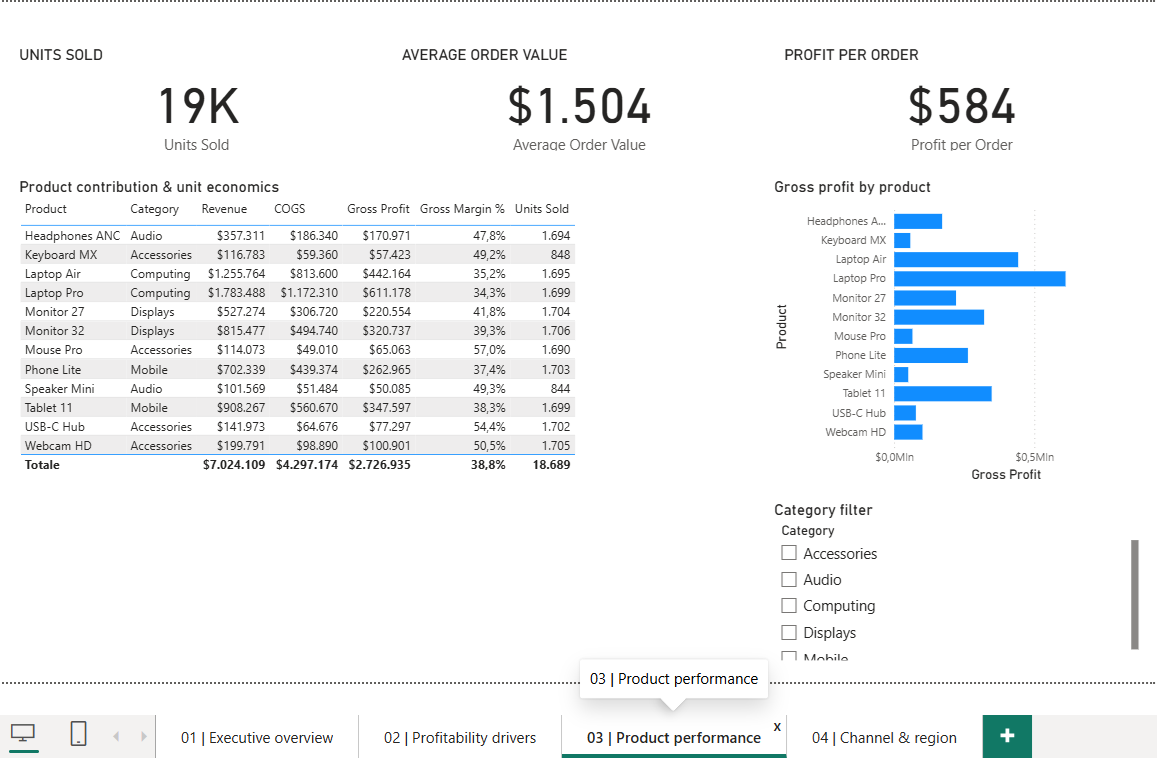

The dashboard page shown, as its layout file describes it:
{"tool":"powerbi","page":{"name":"03 | Product performance","canvas":[1280,720],"ordinal":2},"visuals":[{"type":"card","title":"UNITS SOLD","fields":{"Values":["Sales.Units Sold"]},"box":[20,20,400,120],"z":0},{"type":"card","title":"AVERAGE ORDER VALUE","fields":{"Values":["Sales.Average Order Value"]},"box":[440,20,400,120],"z":0},{"type":"card","title":"PROFIT PER ORDER","fields":{"Values":["Sales.Profit per Order"]},"box":[860,20,400,120],"z":0},{"type":"tableEx","title":"Product contribution & unit economics","fields":{"Values":["Products.Product","Products.Category","Sales.Revenue","Sales.COGS","Sales.Gross Profit","Sales.Gross Margin %","Sales.Units Sold"]},"box":[20,165,810,535],"z":0},{"type":"clusteredBarChart","title":"Gross profit by product","fields":{"Category":["Products.Product"],"Y":["Sales.Gross Profit"]},"box":[850,165,410,340],"z":0},{"type":"slicer","title":"Category filter","fields":{"Values":["Products.Category"]},"box":[850,520,410,180],"z":0}]}

Visuals, with their boxes on the page's 1280x720 design canvas (x1, y1, x2, y2). These are canvas units, not pixel positions in the 1157x758 screenshot, which may show the page scaled, cropped or inside an application window:
"UNITS SOLD" card: left=20, top=20, right=420, bottom=140
"AVERAGE ORDER VALUE" card: left=440, top=20, right=840, bottom=140
"PROFIT PER ORDER" card: left=860, top=20, right=1260, bottom=140
"Product contribution & unit economics" tableEx: left=20, top=165, right=830, bottom=700
"Gross profit by product" clusteredBarChart: left=850, top=165, right=1260, bottom=505
"Category filter" slicer: left=850, top=520, right=1260, bottom=700
